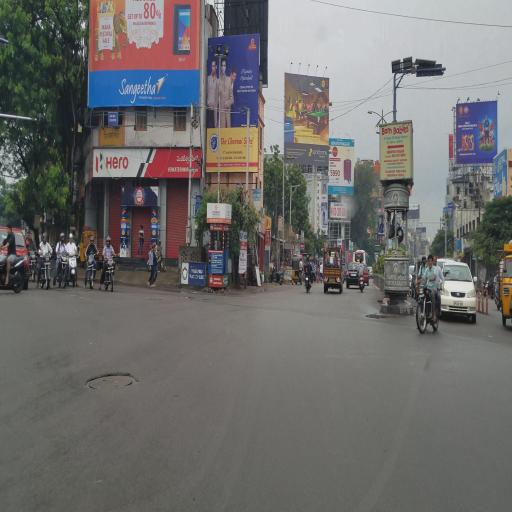street_light_0: (365, 99, 383, 125), (383, 99, 401, 125)
